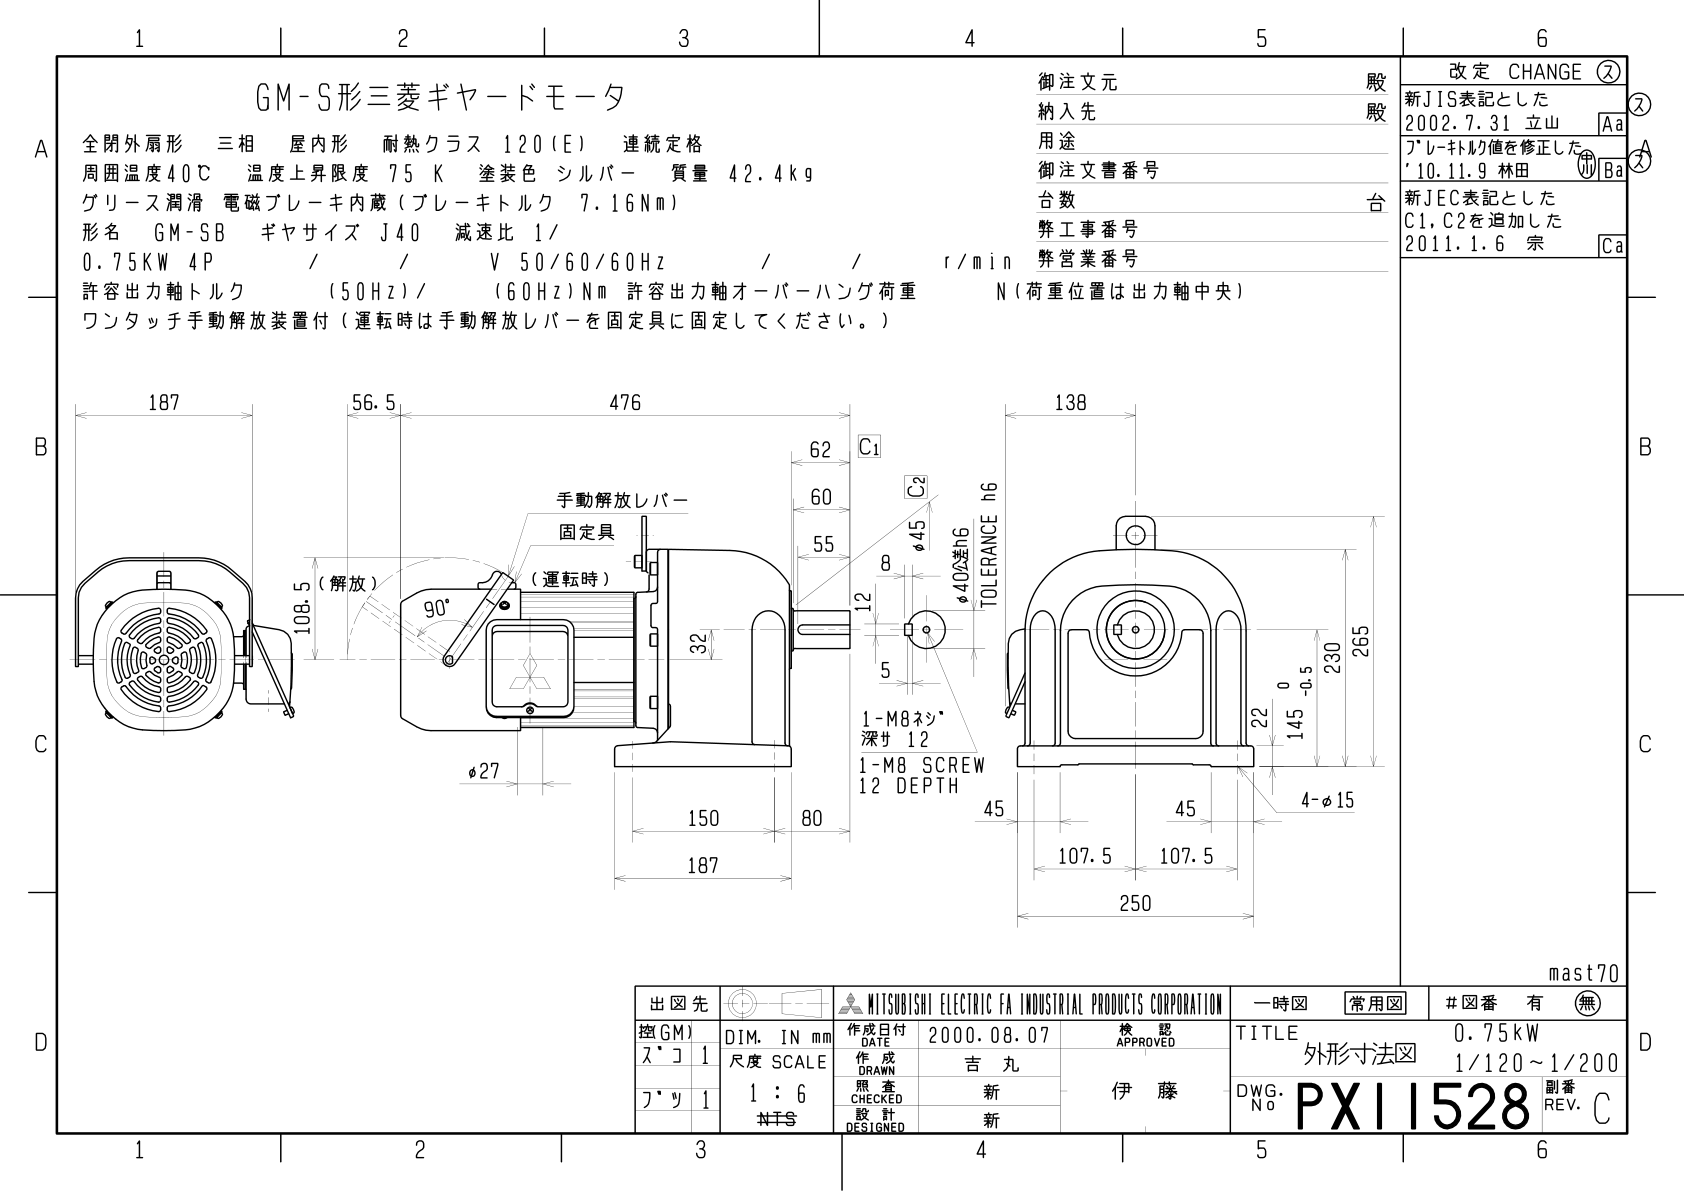GM_S_手動ブレーキ＿三相_脚: (12, 8, 1684, 1191)
